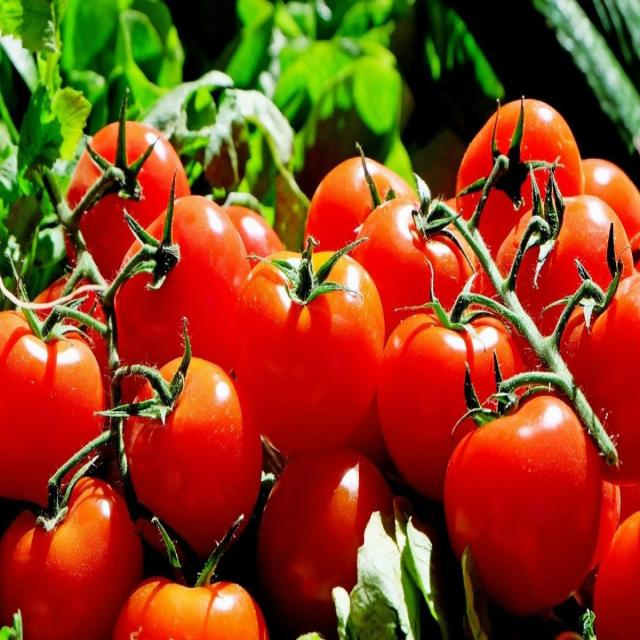kirmizi: (66, 136, 614, 600)
